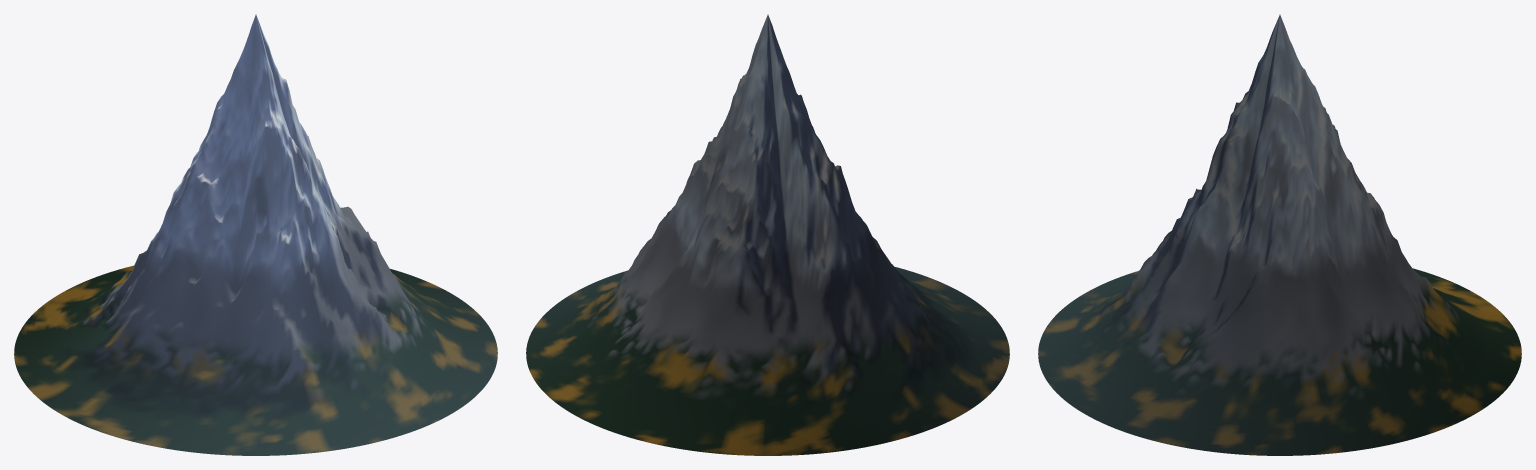
The picture shows the model from 3 angles, left to right: view 1: azimuth 30°, elevation 25°; view 2: azimuth 150°, elevation 25°; view 3: azimuth 270°, elevation 25°; orthographic projection.
Visible parts, largest first — view 1: L4_3_Peak0; view 2: L4_3_Peak0; view 3: L4_3_Peak0.
Boxes of the visible parts, x1,y1,x2,y2 form: L4_3_Peak0: [14, 14, 497, 455]; L4_3_Peak0: [526, 14, 1009, 455]; L4_3_Peak0: [1038, 14, 1521, 455].
Size of the model in its own units: 1200 by 930 by 1200.
